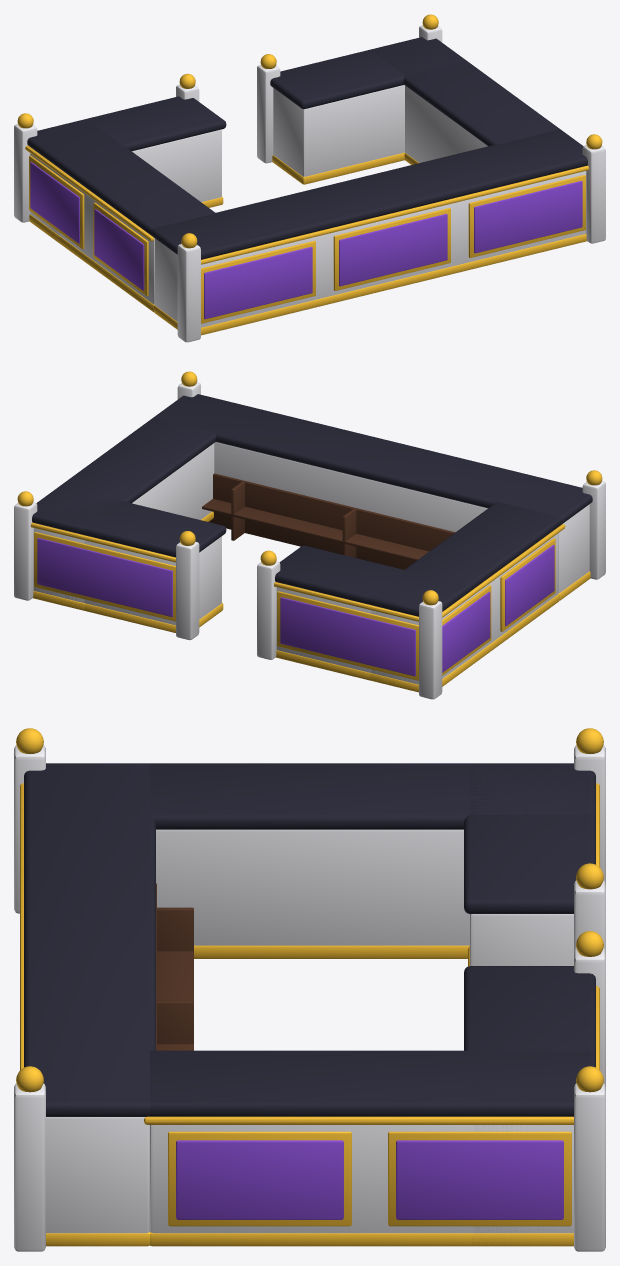
Rendered from PropCheckout.fbx.
3 renders of one model, top to bottom at view 1: azimuth 30°, elevation 25°; view 2: azimuth 150°, elevation 25°; view 3: azimuth 270°, elevation 25°, orthographic. The views are drawn at different scales.
Parts seen in each view (by area): view 1: DarkMarble, Marble, Accent, Gold; view 2: DarkMarble, Marble, Accent, Gold, DarkWood; view 3: DarkMarble, Marble, Gold, Accent, DarkWood.
Part boxes in pixels (x1,y1,x2,y2): DarkMarble: [27, 37, 587, 259]; Marble: [14, 25, 605, 342]; Accent: [30, 162, 582, 319]; Gold: [17, 14, 602, 335]; DarkMarble: [32, 394, 592, 616]; Marble: [14, 382, 605, 699]; Accent: [37, 538, 554, 676]; Gold: [17, 371, 602, 692]; DarkWood: [202, 473, 455, 569]; DarkMarble: [24, 763, 595, 1116]; Marble: [14, 745, 605, 1251]; Gold: [16, 728, 603, 1246]; Accent: [176, 1140, 563, 1219]; DarkWood: [156, 883, 193, 1050].
Bounding box in the file's own units: 2080 × 525 × 1480.
